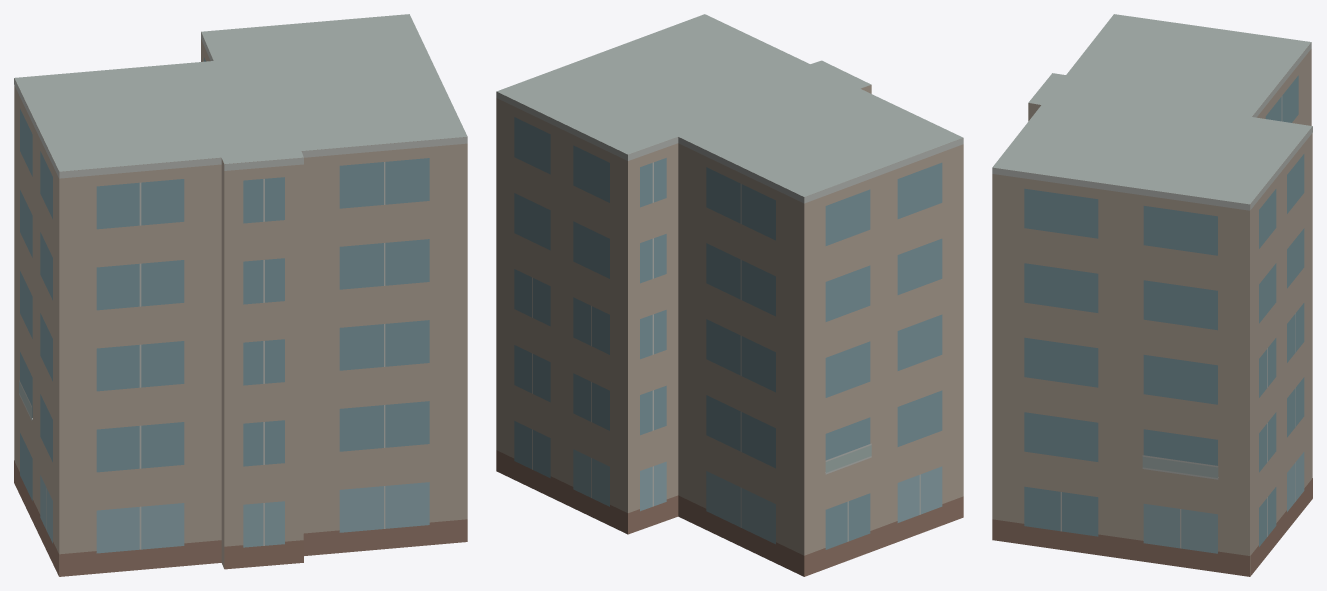
Rendered from survey-upis-32947278.glb.
3 renders of one model, left to right at view 1: azimuth 30°, elevation 25°; view 2: azimuth 150°, elevation 25°; view 3: azimuth 270°, elevation 25°, orthographic. The views are drawn at different scales.
Parts seen in each view (by area): view 1: survey-upis-32947278.tmp; view 2: survey-upis-32947278.tmp; view 3: survey-upis-32947278.tmp.
Boxes of the visible parts, <box> form: survey-upis-32947278.tmp: <box>14,14,467,576</box>; survey-upis-32947278.tmp: <box>496,14,963,576</box>; survey-upis-32947278.tmp: <box>992,14,1312,576</box>.
Size of the model in its own units: 15.79 by 14.4 by 11.24.
